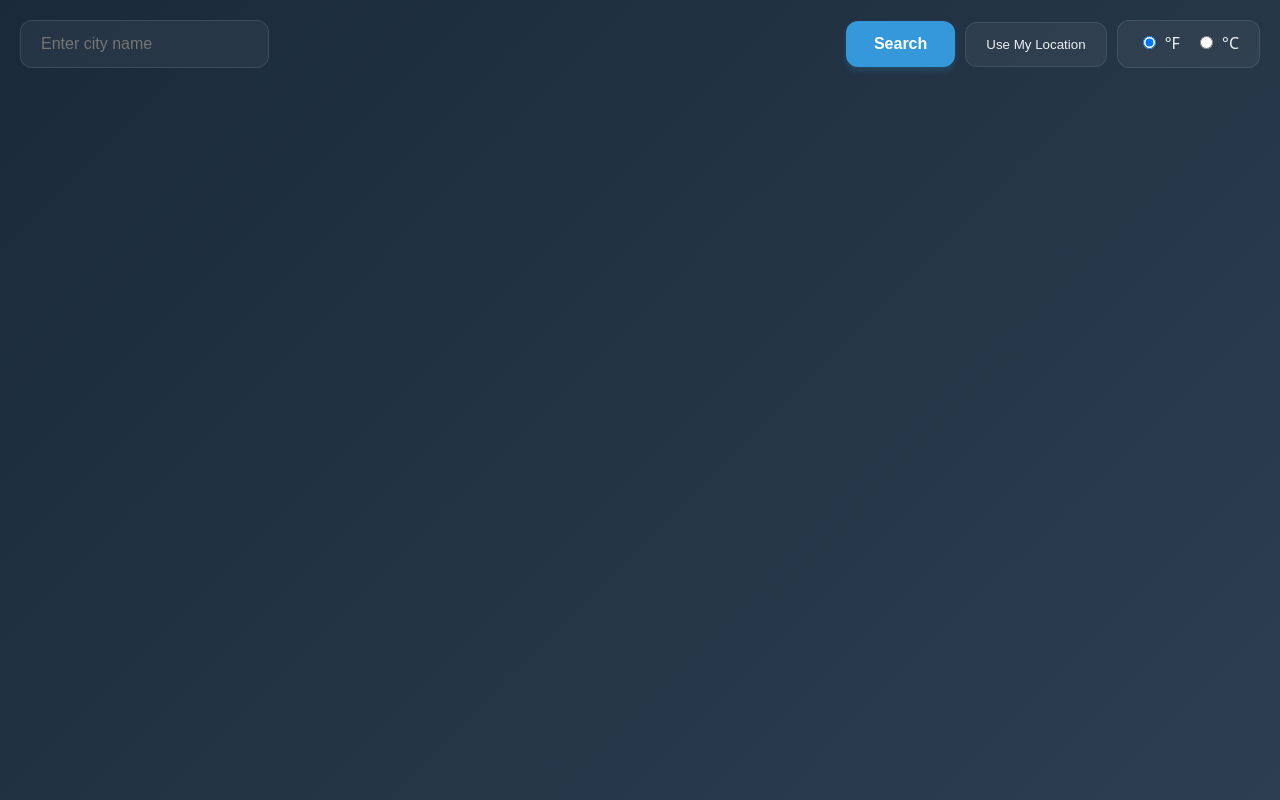
SearchSection › displays suggestions when typing
In the field with placeholder "Enter city name": (144, 44) [20,20,269,68], type "Lon"
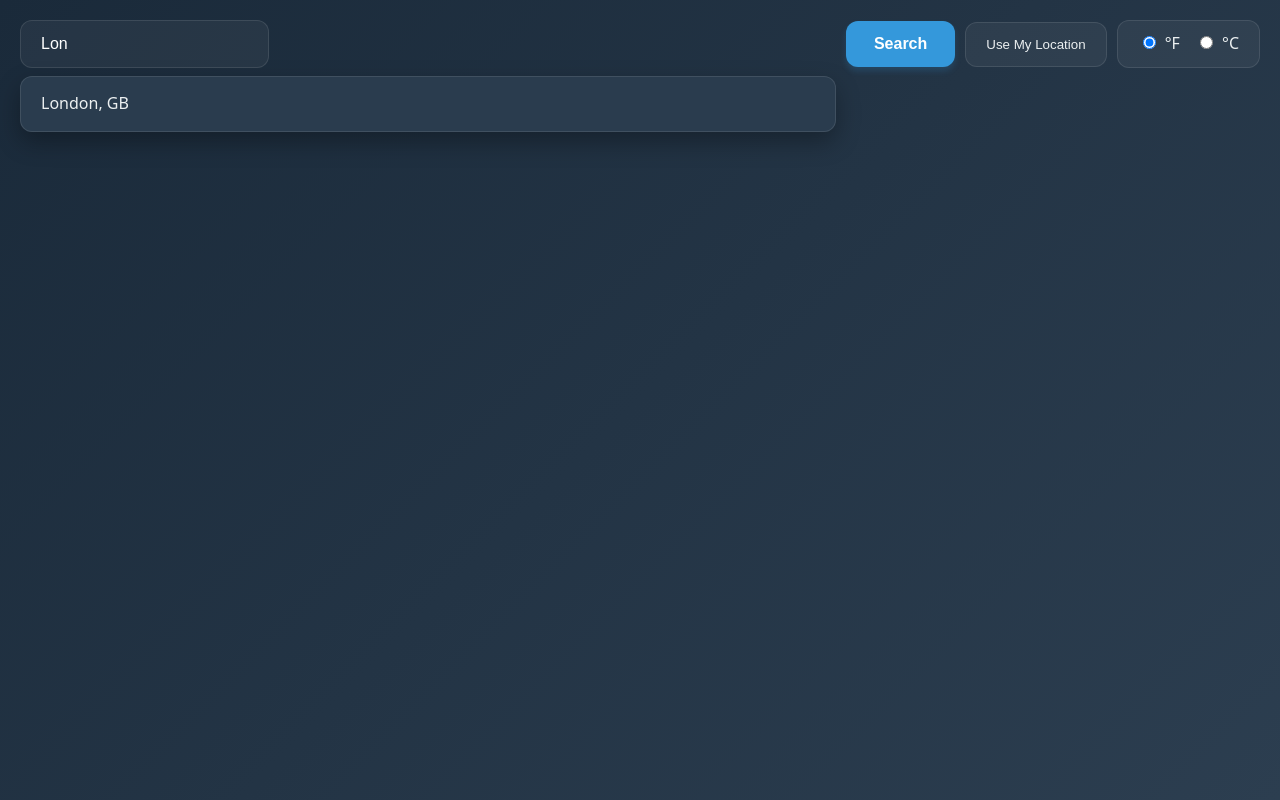
Now the text "London, GB" is shown, box [41,92,129,114]
